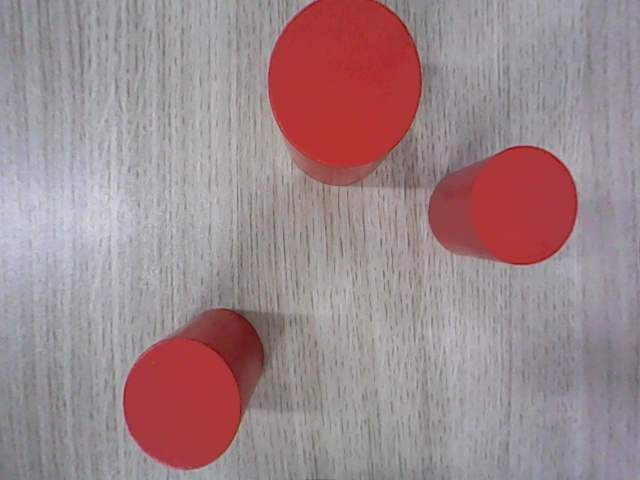upside of cylinder: (266, 0, 423, 169), (122, 338, 241, 470), (471, 145, 578, 265)
